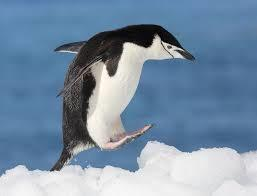chinstrap: (36, 15, 200, 162)
